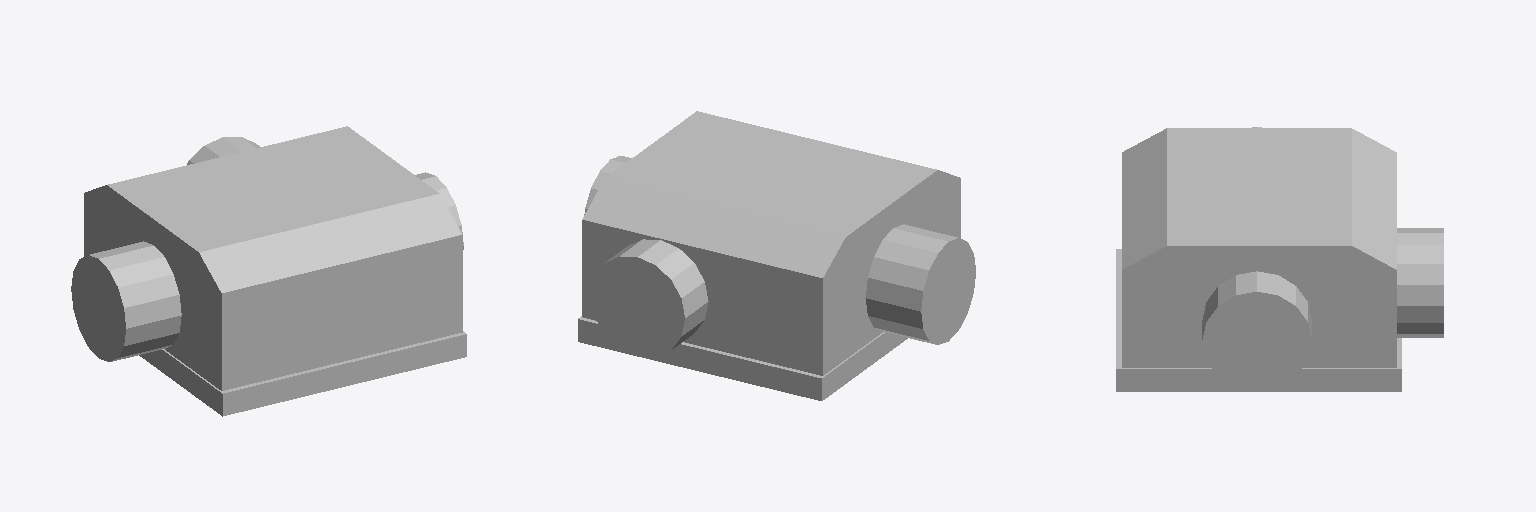
The model's file is SportOutMesh.obj.
3 views of the same model, side by side, from view 1: azimuth 30°, elevation 25°; view 2: azimuth 150°, elevation 25°; view 3: azimuth 270°, elevation 25° (orthographic).
Visible parts, largest first — view 1: Cube.019; view 2: Cube.019; view 3: Cube.019.
Part boxes in pixels (x1,y1,x2,y2): Cube.019: (71, 126, 466, 416); Cube.019: (578, 111, 975, 400); Cube.019: (1116, 127, 1443, 391).
Size of the model in its own units: 7.94 by 3.26 by 6.66.